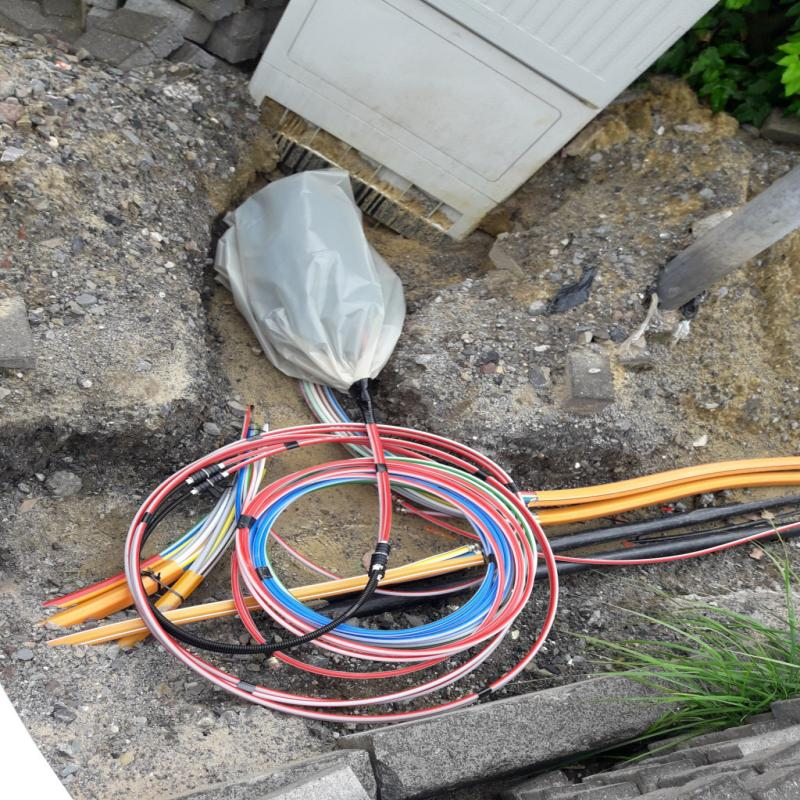NT-Gehause: (252, 1, 720, 214)
NT-Muffen: (206, 169, 409, 410)
Orang-Speednetrohrchen: (41, 544, 488, 654), (30, 537, 219, 646), (507, 459, 800, 525)
